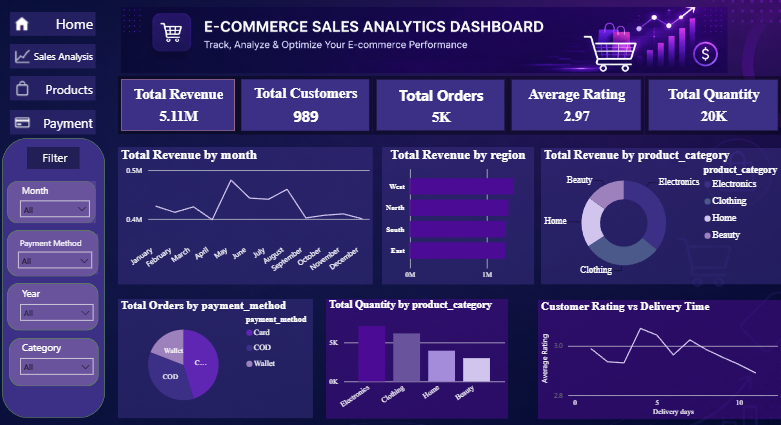

What the dashboard file says about the page in this screenshot:
{"tool":"powerbi","page":{"name":"Page 1","canvas":[1280,720],"ordinal":0},"visuals":[{"type":"cardVisual","fields":{"Data":["ecommerce_sales_cleaned.Total Revenue"]},"box":[195,130,196.7,95],"z":0},{"type":"cardVisual","fields":{"Data":["ecommerce_sales_cleaned.Total Quantity"]},"box":[1056.6,129.3,223.4,95.7],"z":1000},{"type":"cardVisual","fields":{"Data":["ecommerce_sales_cleaned.Total Customers"]},"box":[391.4,129.3,220.1,95.7],"z":2000},{"type":"cardVisual","fields":{"Data":["ecommerce_sales_cleaned.Total Orders"]},"box":[611.4,129.3,221.7,95.7],"z":3000},{"type":"cardVisual","fields":{"Data":["ecommerce_sales_cleaned.Average Rating"]},"box":[833.2,129.3,223.4,95.7],"z":4000},{"type":"lineChart","fields":{"Category":["ecommerce_sales_cleaned.month"],"Y":["ecommerce_sales_cleaned.Total Revenue"]},"box":[194.4,244.8,416.7,225],"z":5000},{"type":"clusteredBarChart","fields":{"Category":["ecommerce_sales_cleaned.region"],"Y":["ecommerce_sales_cleaned.Total Revenue"]},"box":[626.6,245.2,248.6,225.1],"z":6000},{"type":"donutChart","fields":{"Category":["ecommerce_sales_cleaned.product_category"],"Y":["ecommerce_sales_cleaned.Total Revenue"]},"box":[886.9,246.9,393.1,223.4],"z":7000},{"type":"pieChart","fields":{"Category":["ecommerce_sales_cleaned.payment_method"],"Y":["ecommerce_sales_cleaned.Total Orders"]},"box":[195,495,319.2,194.9],"z":8000},{"type":"columnChart","fields":{"Category":["ecommerce_sales_cleaned.product_category"],"Y":["ecommerce_sales_cleaned.Total Quantity"]},"box":[534.6,494.1,298.2,195.9],"z":9000},{"type":"lineChart","title":"Customer Rating vs Delivery Time","fields":{"Category":["ecommerce_sales_cleaned.delivery_days"],"Y":["ecommerce_sales_cleaned.Average Rating"]},"box":[882.7,495.4,398.1,194.9],"z":10000},{"type":"actionButton","box":[18.7,24.5,139.7,38.9],"z":11000},{"type":"actionButton","box":[18.7,76.3,139.7,40.3],"z":12000},{"type":"actionButton","box":[18.7,129.6,139.7,40.3],"z":13000},{"type":"actionButton","box":[18.7,184.3,139.7,40.3],"z":14000},{"type":"shape","box":[4.9,230.8,168.6,458.3],"z":15000},{"type":"shape","box":[13,301,145.4,69.1],"z":16000},{"type":"slicer","fields":{"Values":["ecommerce_sales_cleaned.month"]},"box":[24.5,301,133.9,69.1],"z":17000},{"type":"shape","box":[13,381.6,149.8,76.3],"z":18000},{"type":"slicer","fields":{"Values":["ecommerce_sales_cleaned.payment_method"]},"box":[21.6,387.4,141.1,66.2],"z":19000},{"type":"shape","box":[15.8,558.7,146.9,79.2],"z":20000},{"type":"slicer","fields":{"Values":["ecommerce_sales_cleaned.product_category"]},"box":[24.5,558.7,139.7,67.7],"z":21000},{"type":"textbox","box":[46.1,244.8,86.4,36],"z":22000},{"type":"shape","box":[13,468,149.8,77.8],"z":23000},{"type":"slicer","fields":{"Values":["ecommerce_sales_cleaned.year"]},"box":[24.5,469.4,139.7,64.8],"z":24000},{"type":"image","box":[163.7,11.5,1065.6,117.9],"z":24001}]}

Visuals, with their boxes on the page's 1280x720 design canvas (x1, y1, x2, y2). These are canvas units, not pixel positions in the 781x425 screenshot, which may show the page scaled, cropped or inside an application window:
cardVisual - ecommerce_sales_cleaned.Total Revenue: Rect(195, 130, 392, 225)
cardVisual - ecommerce_sales_cleaned.Total Quantity: Rect(1057, 129, 1280, 225)
cardVisual - ecommerce_sales_cleaned.Total Customers: Rect(391, 129, 612, 225)
cardVisual - ecommerce_sales_cleaned.Total Orders: Rect(611, 129, 833, 225)
cardVisual - ecommerce_sales_cleaned.Average Rating: Rect(833, 129, 1057, 225)
lineChart - ecommerce_sales_cleaned.month x ecommerce_sales_cleaned.Total Revenue: Rect(194, 245, 611, 470)
clusteredBarChart - ecommerce_sales_cleaned.region x ecommerce_sales_cleaned.Total Revenue: Rect(627, 245, 875, 470)
donutChart - ecommerce_sales_cleaned.product_category x ecommerce_sales_cleaned.Total Revenue: Rect(887, 247, 1280, 470)
pieChart - ecommerce_sales_cleaned.payment_method x ecommerce_sales_cleaned.Total Orders: Rect(195, 495, 514, 690)
columnChart - ecommerce_sales_cleaned.product_category x ecommerce_sales_cleaned.Total Quantity: Rect(535, 494, 833, 690)
"Customer Rating vs Delivery Time" lineChart: Rect(883, 495, 1281, 690)
actionButton: Rect(19, 24, 158, 63)
actionButton: Rect(19, 76, 158, 117)
actionButton: Rect(19, 130, 158, 170)
actionButton: Rect(19, 184, 158, 225)
shape: Rect(5, 231, 174, 689)
shape: Rect(13, 301, 158, 370)
slicer - ecommerce_sales_cleaned.month: Rect(24, 301, 158, 370)
shape: Rect(13, 382, 163, 458)
slicer - ecommerce_sales_cleaned.payment_method: Rect(22, 387, 163, 454)
shape: Rect(16, 559, 163, 638)
slicer - ecommerce_sales_cleaned.product_category: Rect(24, 559, 164, 626)
textbox: Rect(46, 245, 132, 281)
shape: Rect(13, 468, 163, 546)
slicer - ecommerce_sales_cleaned.year: Rect(24, 469, 164, 534)
image: Rect(164, 12, 1229, 129)
